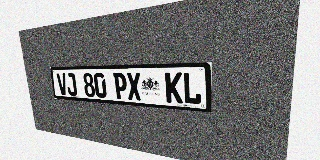0: (93, 73, 107, 98)
8: (82, 73, 95, 97)
J: (65, 73, 77, 96)
K: (165, 72, 183, 103)
L: (183, 72, 201, 105)
P: (113, 73, 128, 100)
V: (56, 73, 68, 95)
X: (126, 73, 142, 101)
